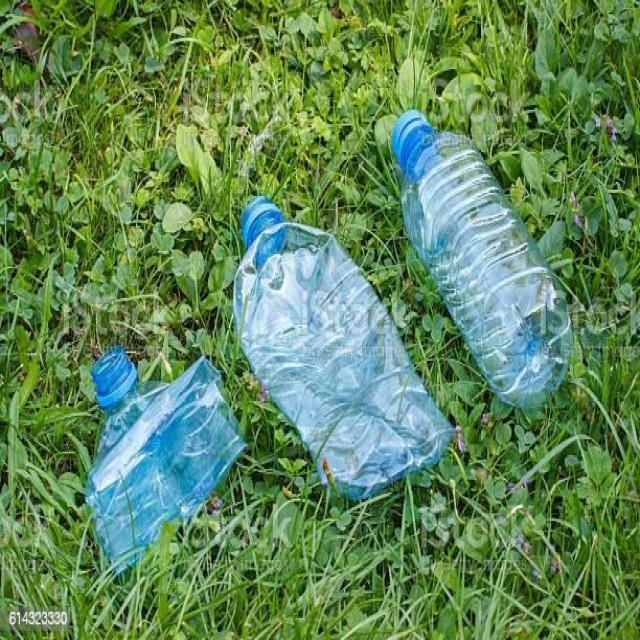bottle: (231, 180, 456, 537), (376, 101, 579, 424), (84, 334, 244, 590)
